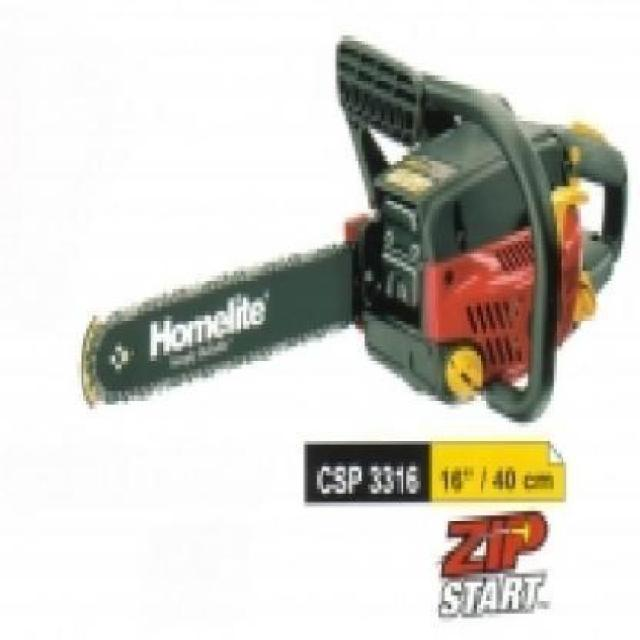Chainsaw: (77, 31, 634, 427)
